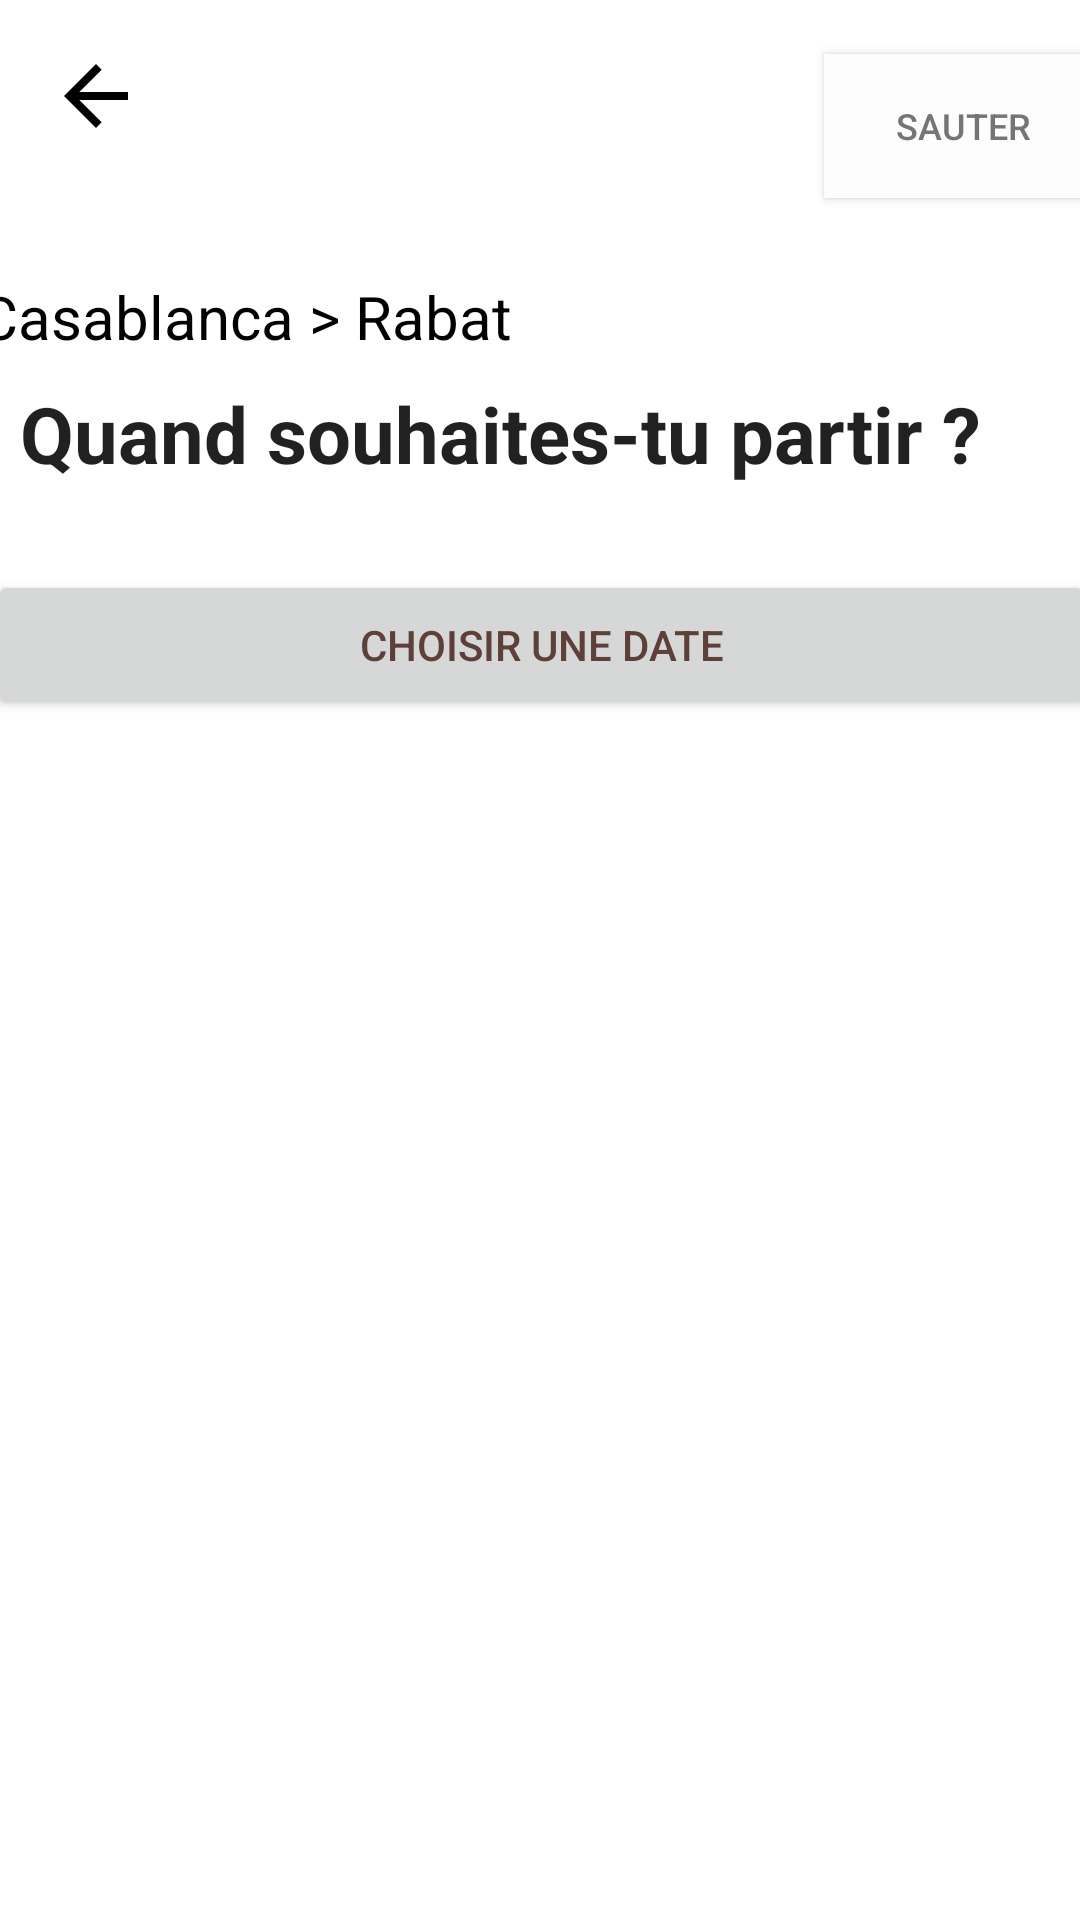

Locate icon controls on the screen. Image size 1080px x 1920px, boxes as bbox=(x1, y1, x2, y2).
Retour: bbox=(64, 64, 128, 128)
